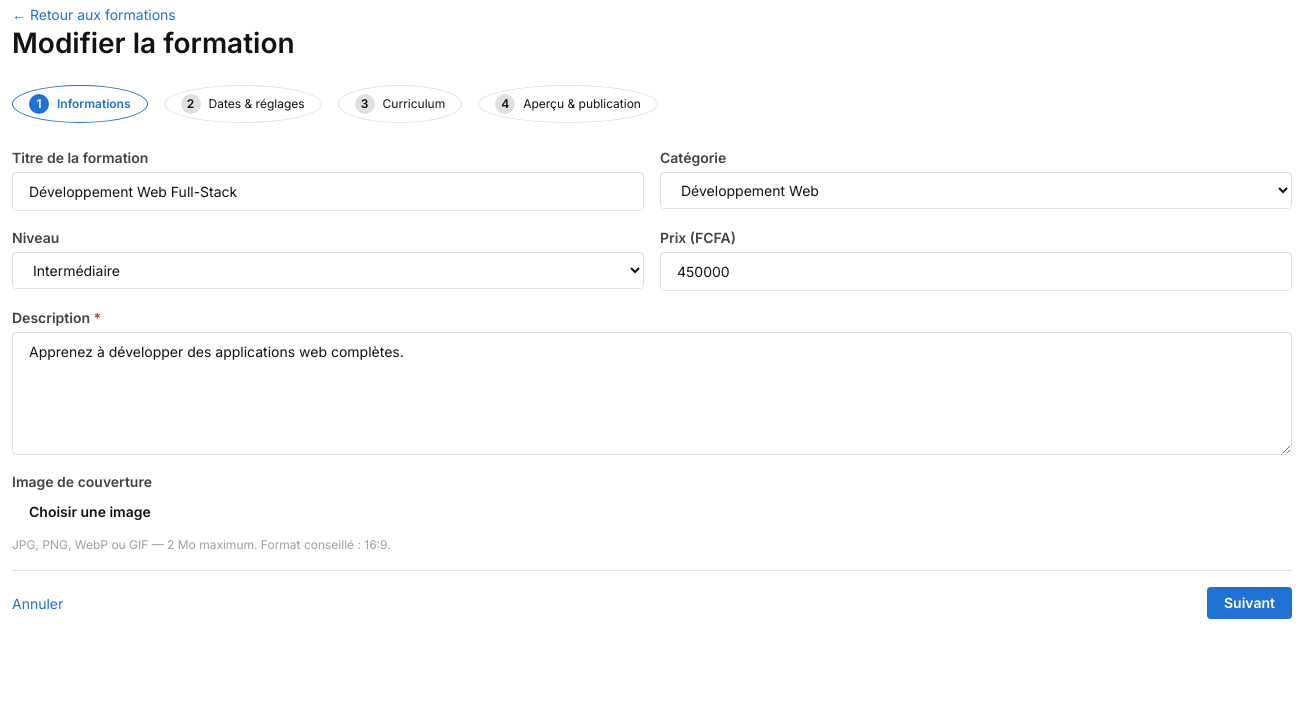
Test case: FormationFormComponent › should prefill the form and load modules in edit mode
Expected: the field labelled "Titre de la formation" holds "Développement Web Full-Stack", left=12, top=172, right=644, bottom=211
Expected: the number field labelled "Prix (FCFA)" holds "450000", left=660, top=252, right=1292, bottom=291
Click the button "Suivant": (1250, 603) left=1207, top=587, right=1292, bottom=619
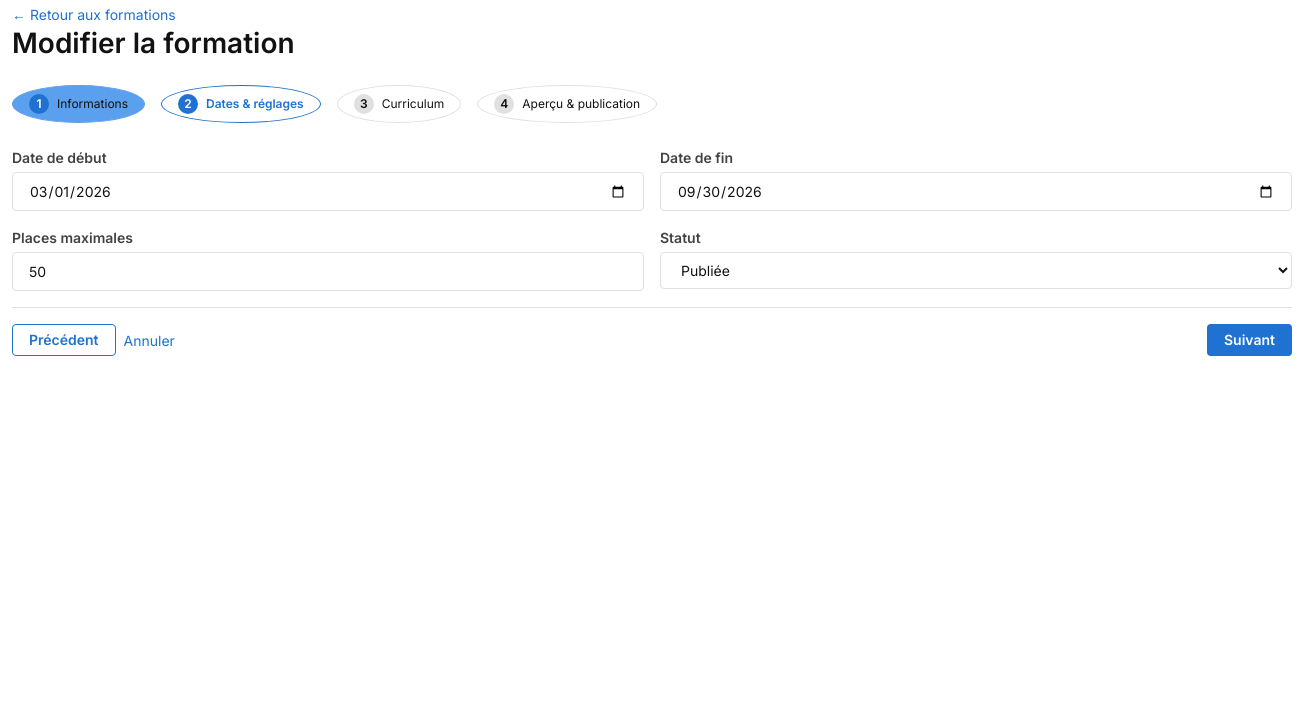
Click the button "Suivant": (1250, 340) left=1207, top=324, right=1292, bottom=356
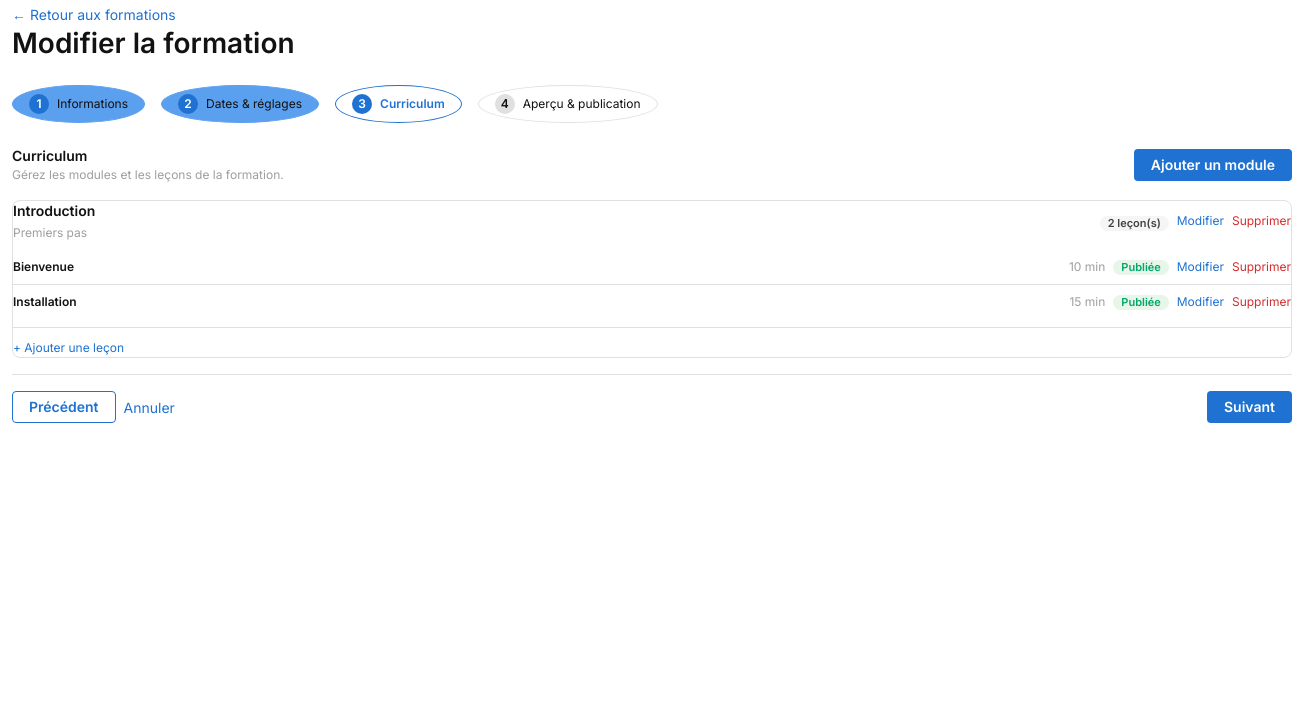
Expected: the text "Introduction" is shown, left=13, top=201, right=95, bottom=220
Expected: the text "Bienvenue" is shown, left=13, top=258, right=74, bottom=276
Expected: the text "10 min" is shown, left=1069, top=258, right=1105, bottom=276
